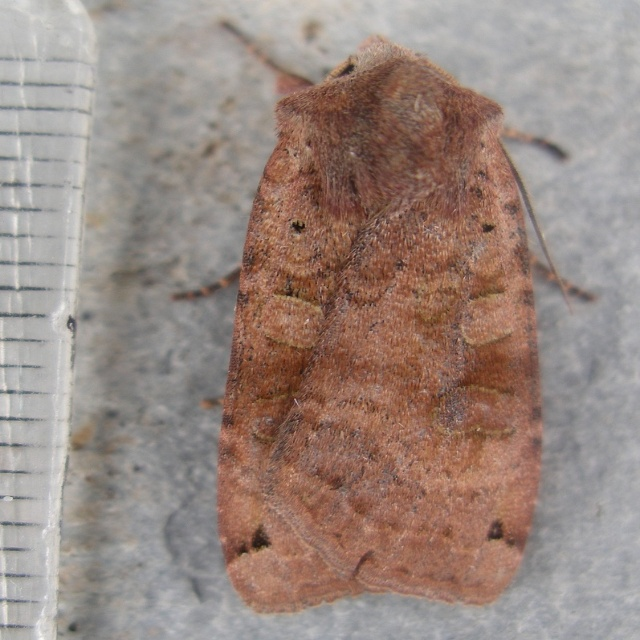Moths and butterflies: (172, 5, 607, 626)
